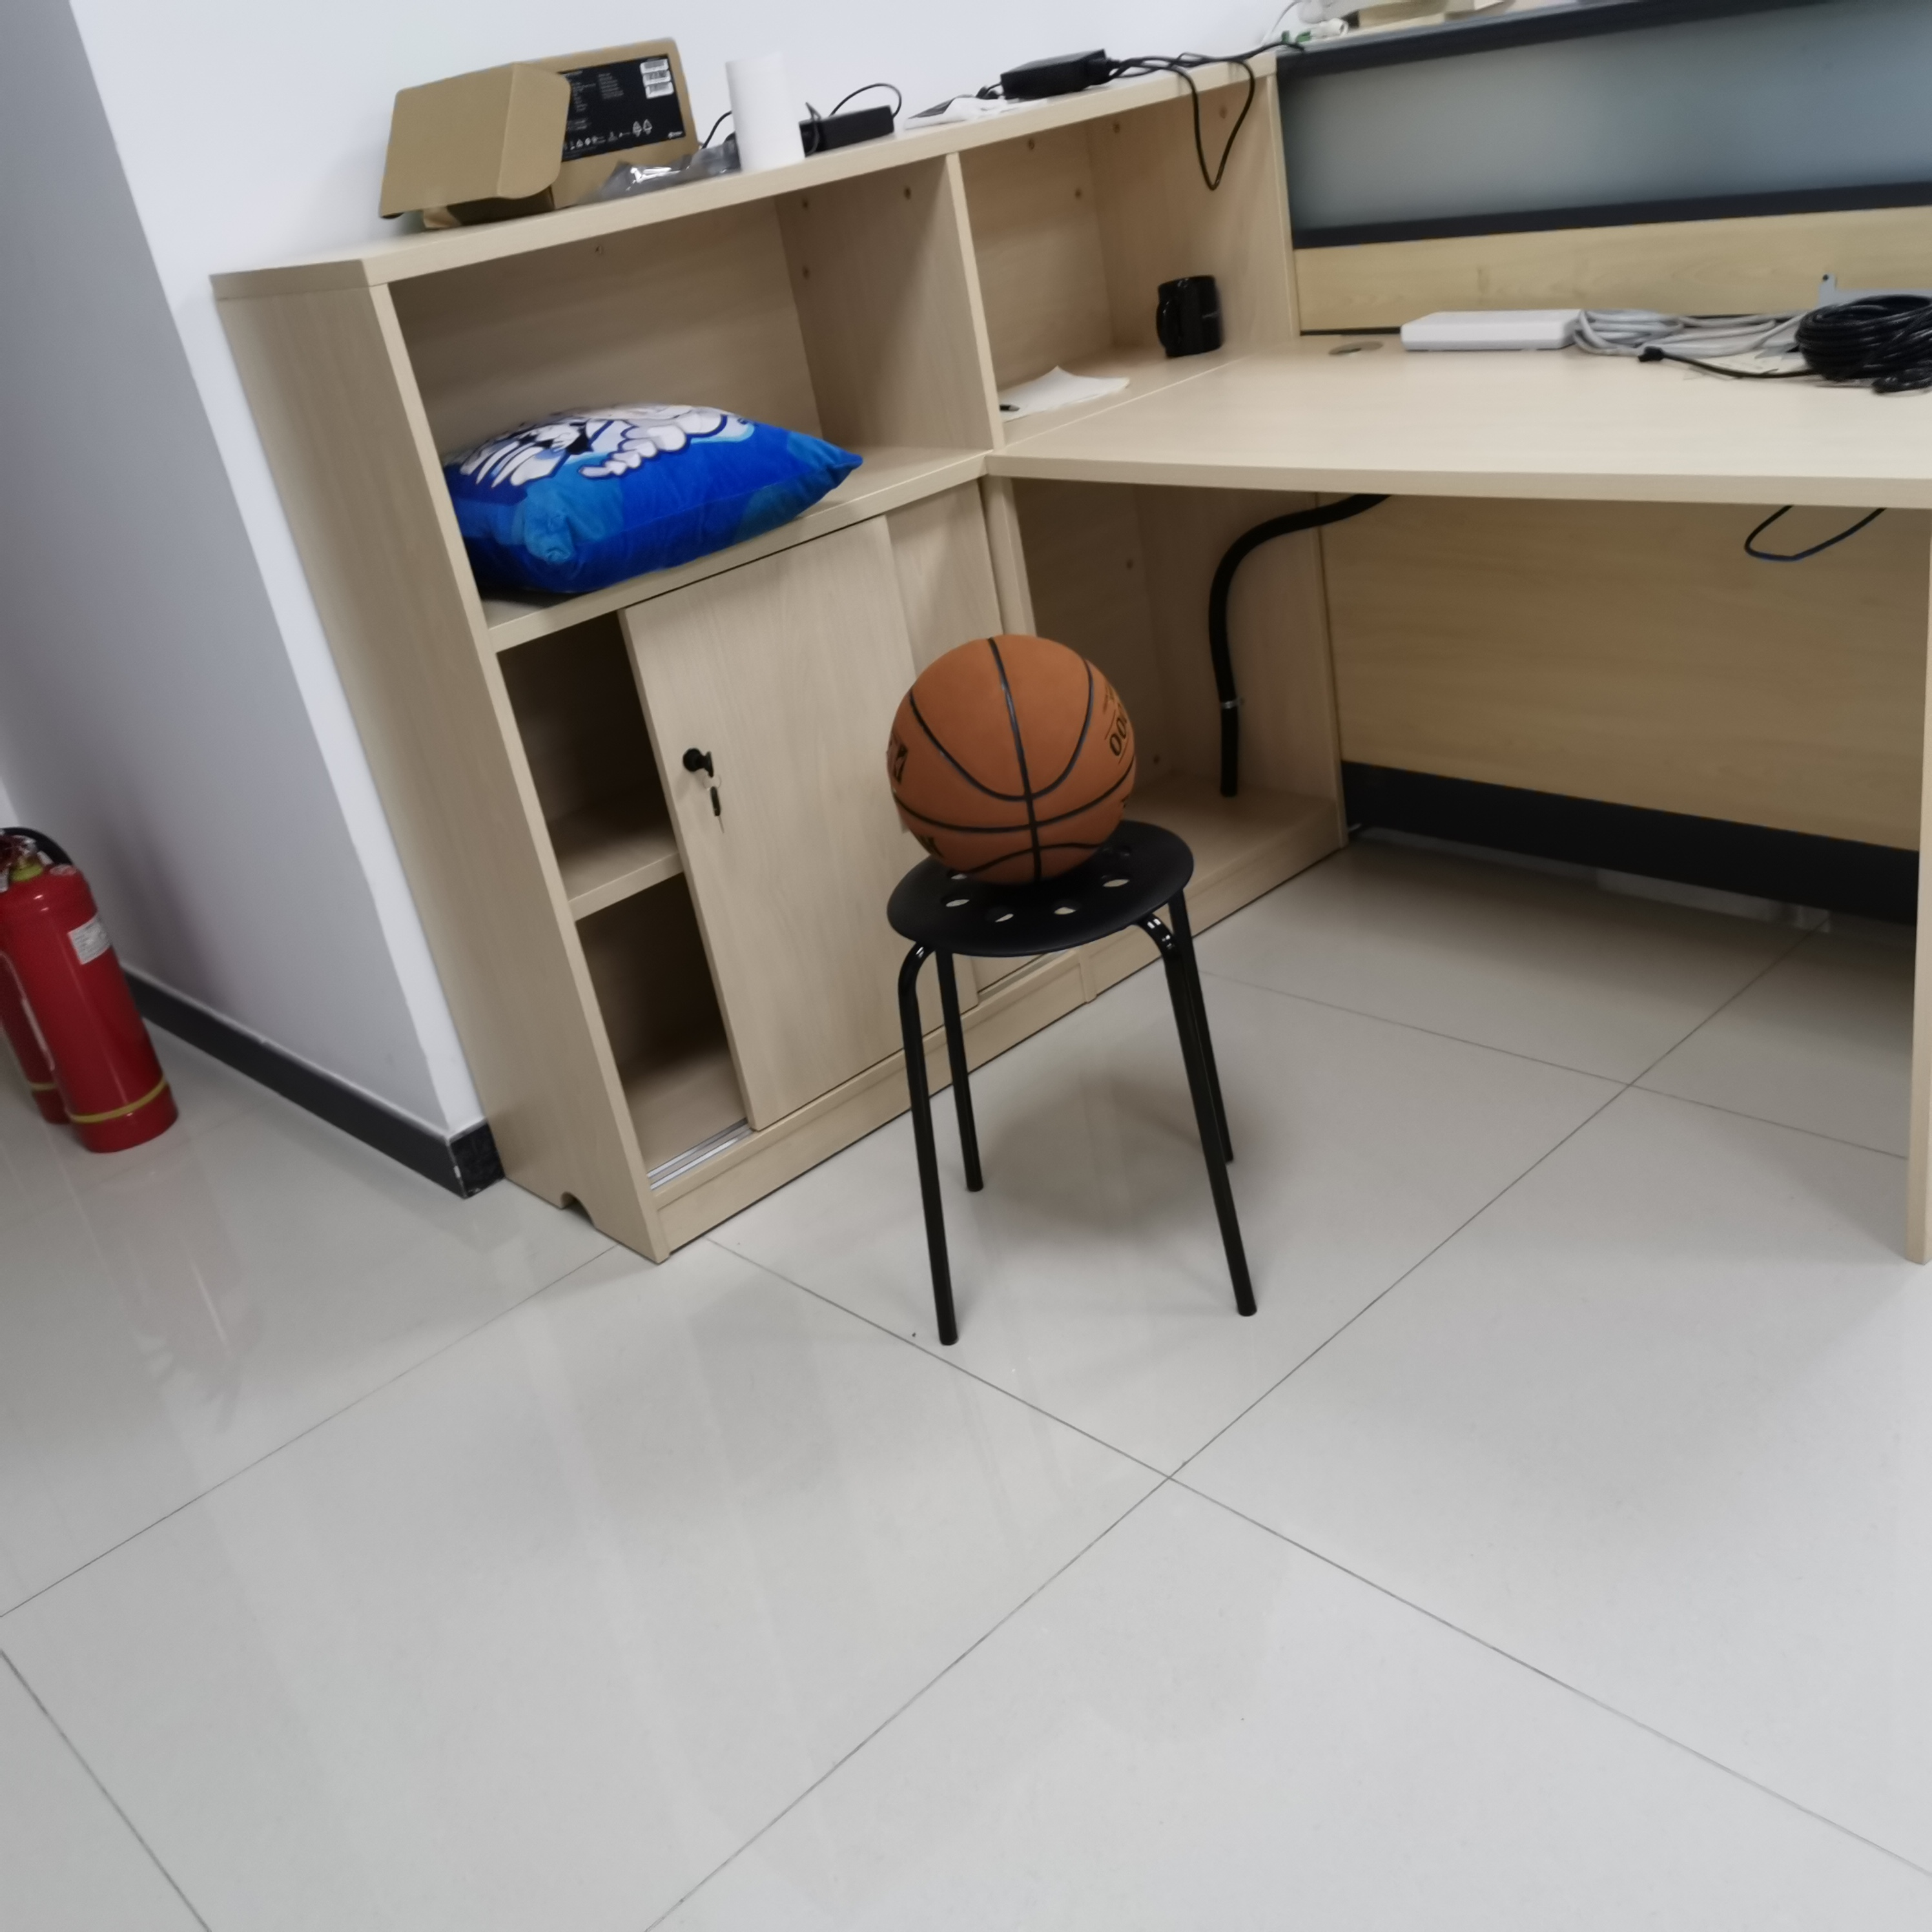basketball: (888, 635, 1138, 890)
